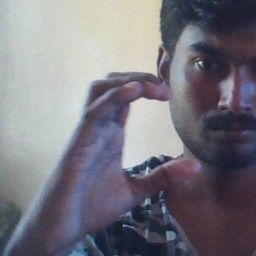C: (72, 61, 202, 208)
